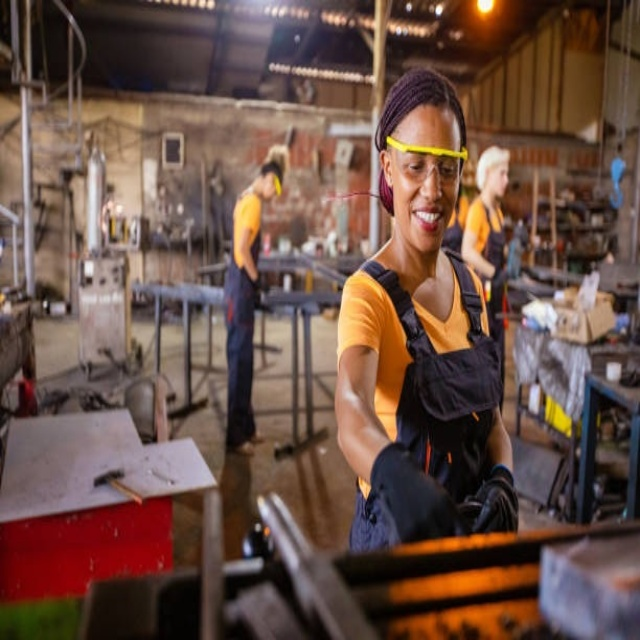Gafas: (384, 136, 467, 180)
Guantes: (366, 444, 464, 546), (466, 464, 519, 536)
Sin_mascara: (402, 201, 449, 242)
